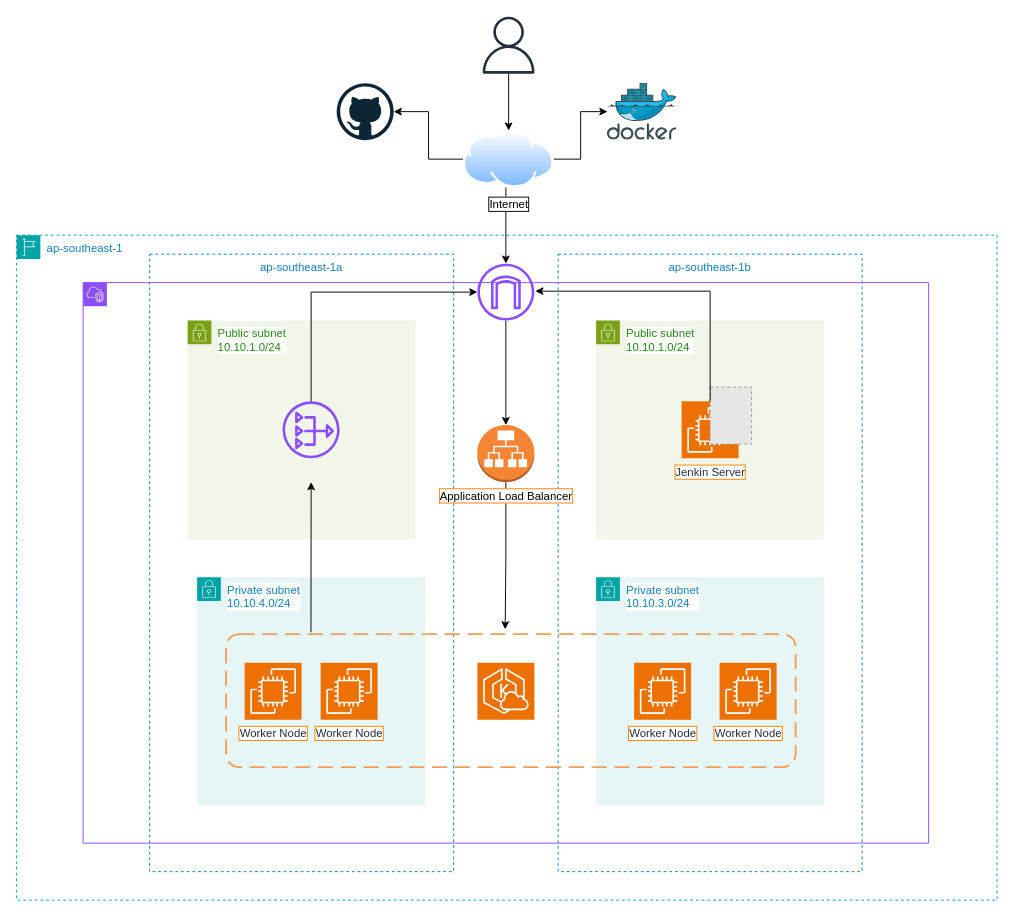
This 1014x917 diagram has some shape labels left out. Grey dashed boxes stand in for pictures. Each missing label, with the box of its shape:
Docker Hub: (607, 83, 676, 140)
EKS Cluster: (476, 662, 534, 720)
Github: (336, 82, 394, 140)
Internet Gateway: (477, 263, 534, 320)
NAT Gateway: (282, 401, 339, 458)
User: (480, 16, 537, 73)
VPC: 10.10.0.0/16: (82, 282, 929, 843)
